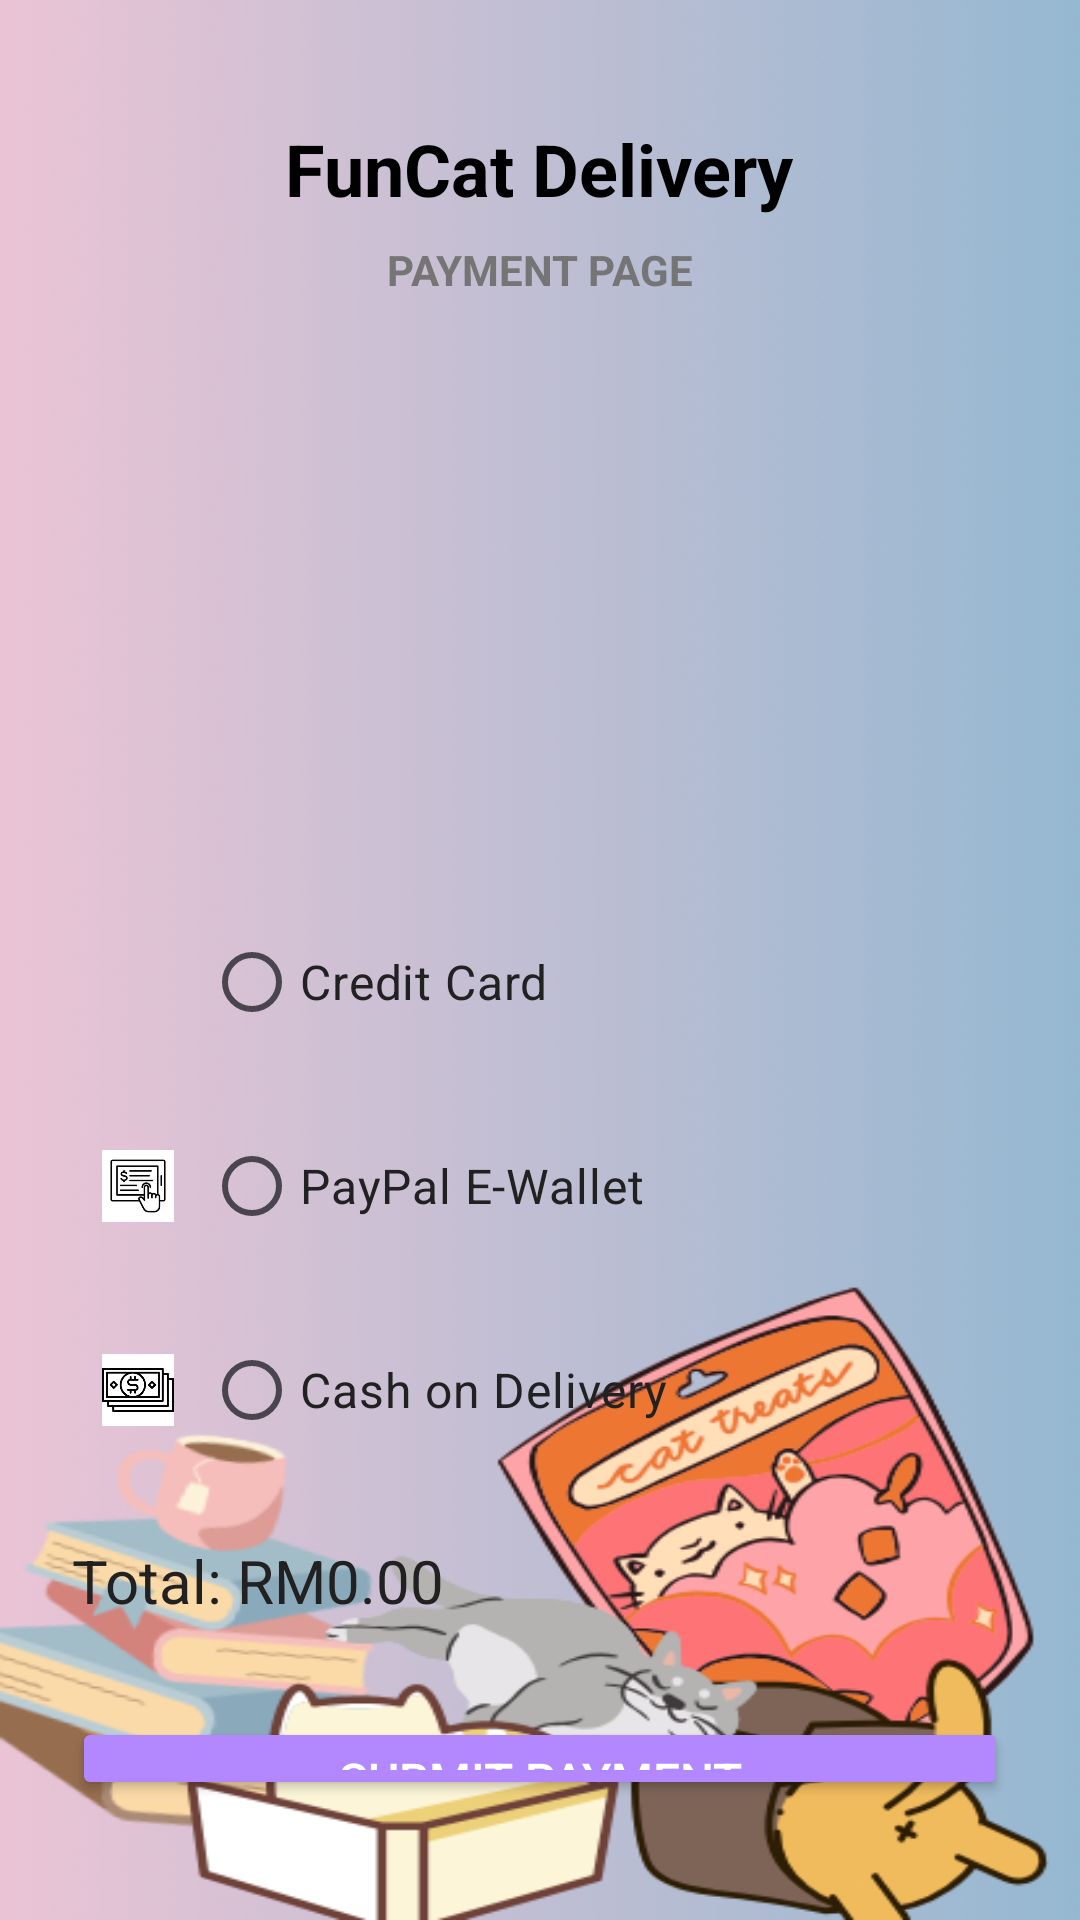

Named icons in this screenshot (1080px x 1920px) and their centers, point (x, y):
online: point (138, 1186)
